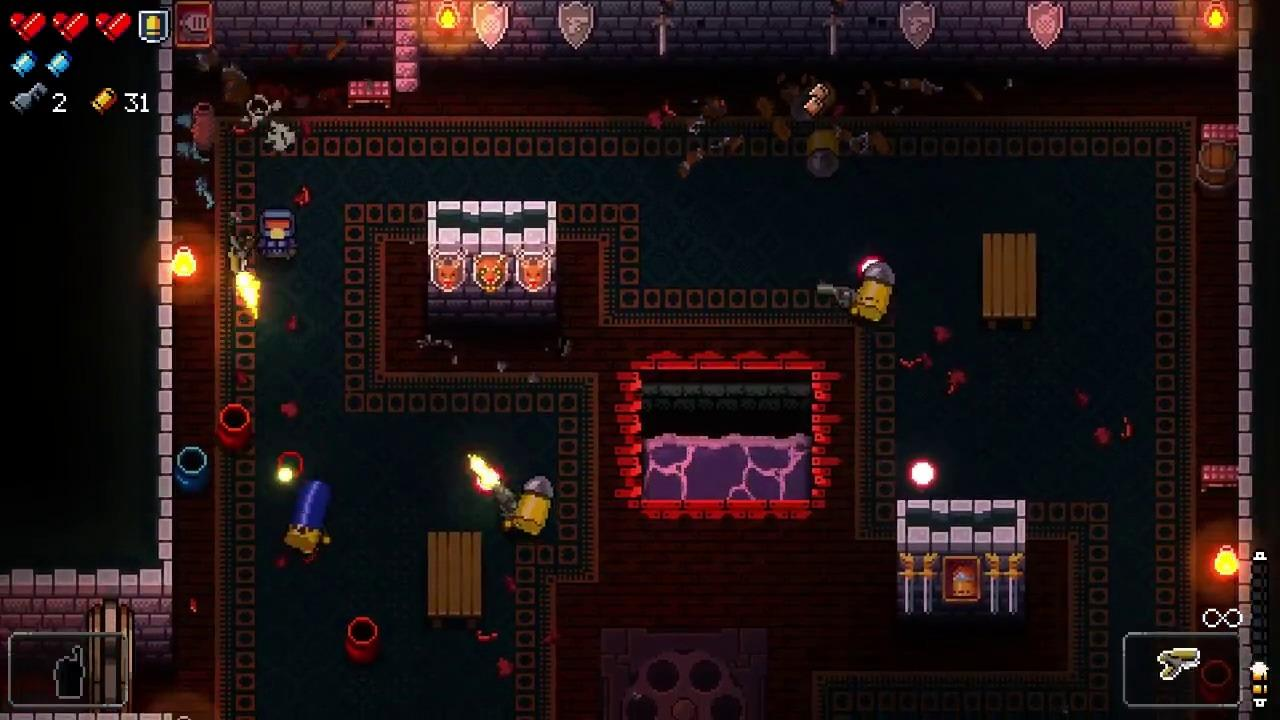blue_shotgun_kin: (282, 477, 332, 558)
bullet: (911, 461, 937, 489)
bullet_kin: (506, 475, 554, 539), (851, 261, 897, 325)
dead_bullet_kin: (805, 128, 842, 178)
locked_door: (92, 600, 134, 709)
player: (258, 208, 298, 265)
table: (980, 231, 1040, 333), (426, 531, 480, 628)
teleporter: (599, 624, 773, 720)
water_pit: (609, 347, 842, 523)
